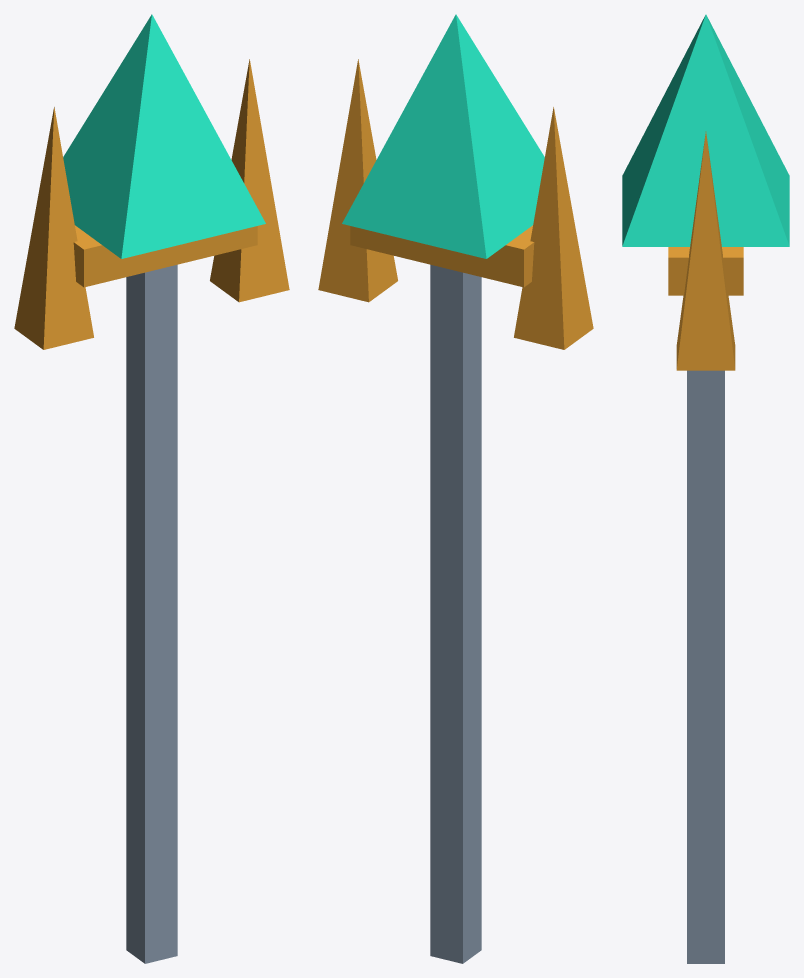
Rendered from dawnstaff.obj.
3 renders of one model, left to right at view 1: azimuth 30°, elevation 25°; view 2: azimuth 150°, elevation 25°; view 3: azimuth 270°, elevation 25°, orthographic.
Bounding box in the file's own units: 0.68 × 2.48 × 0.4.
